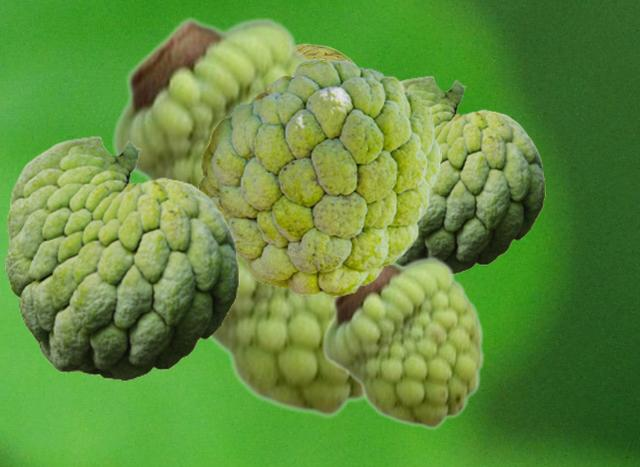atis: (198, 59, 440, 295), (5, 135, 238, 380), (112, 15, 309, 186), (397, 75, 544, 273), (322, 255, 484, 430), (207, 257, 363, 419), (298, 43, 353, 61)
